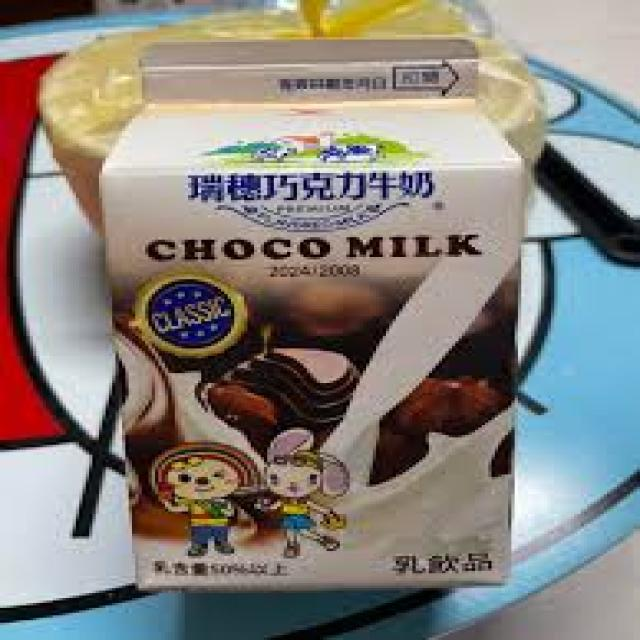RuiSui_ChocoMilk: (86, 29, 526, 594)
